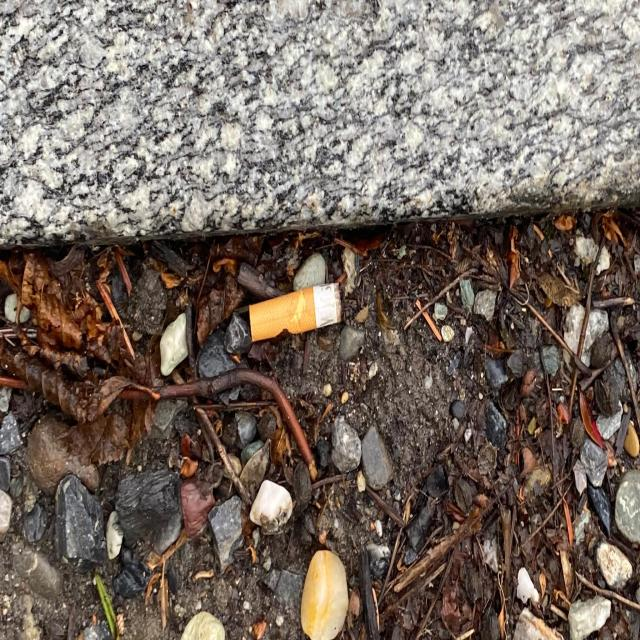other waste: (248, 281, 343, 341)
